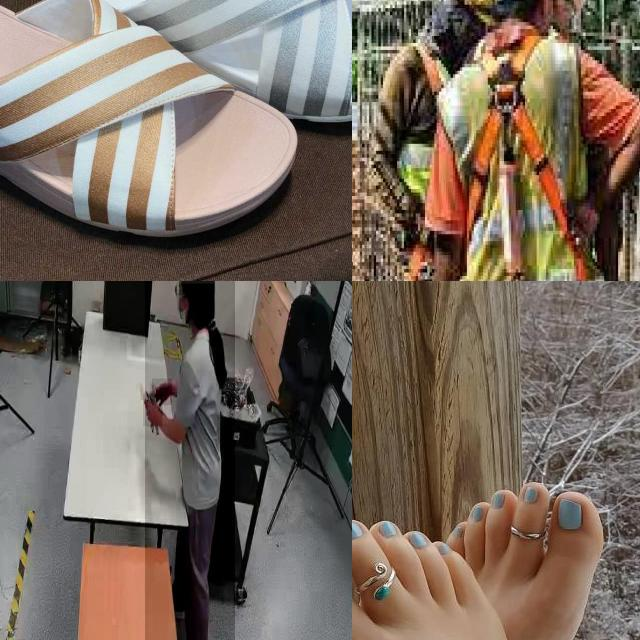Barefoots: (352, 493, 601, 640), (410, 483, 616, 640)
Sandals: (0, 0, 328, 248), (7, 0, 352, 138)
hand_noglove: (143, 393, 163, 428), (152, 379, 172, 406)
person: (144, 281, 235, 640)
